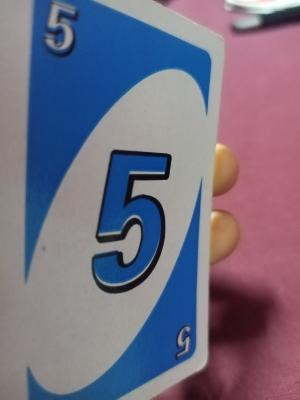blue: (25, 7, 201, 368)
num_5: (30, 4, 100, 61), (172, 324, 196, 363)
